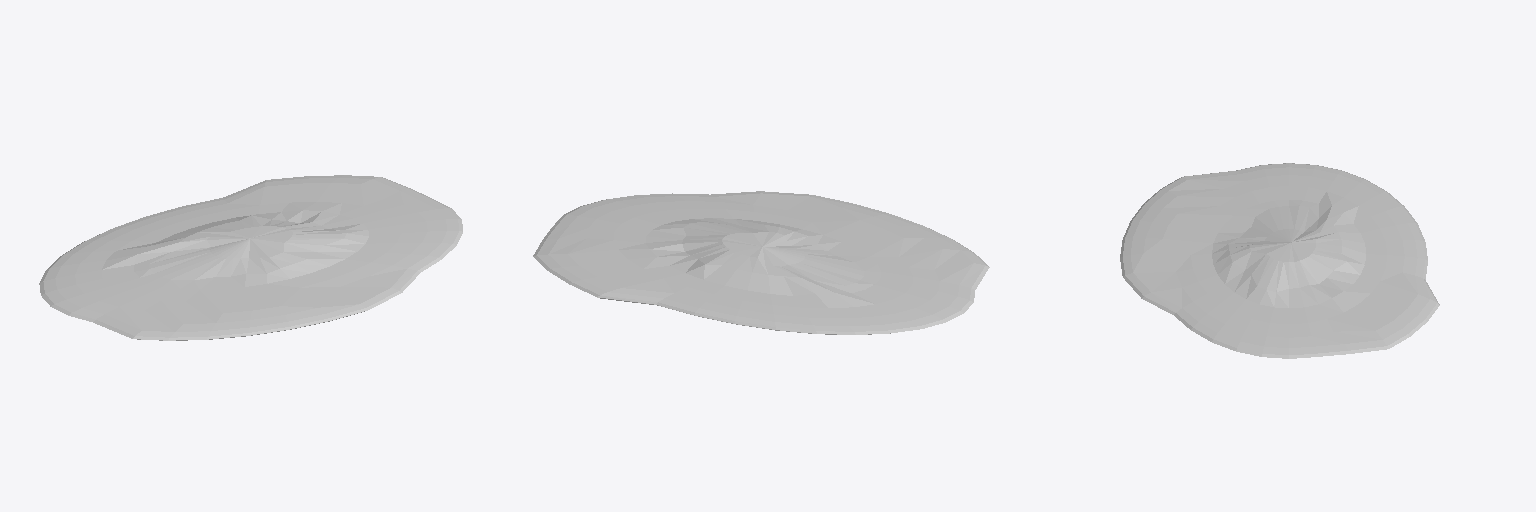
File: Island_1.obj
3 renders of one model, left to right at view 1: azimuth 30°, elevation 25°; view 2: azimuth 150°, elevation 25°; view 3: azimuth 270°, elevation 25°, orthographic.
Parts seen in each view (by area): view 1: Sphere; view 2: Sphere; view 3: Sphere.
Boxes of the visible parts, x1=… form: Sphere: x1=39, y1=175, x2=462, y2=340; Sphere: x1=533, y1=191, x2=989, y2=334; Sphere: x1=1120, y1=163, x2=1439, y2=358.
Bounding box in the file's own units: 10 × 0.64 × 6.9.